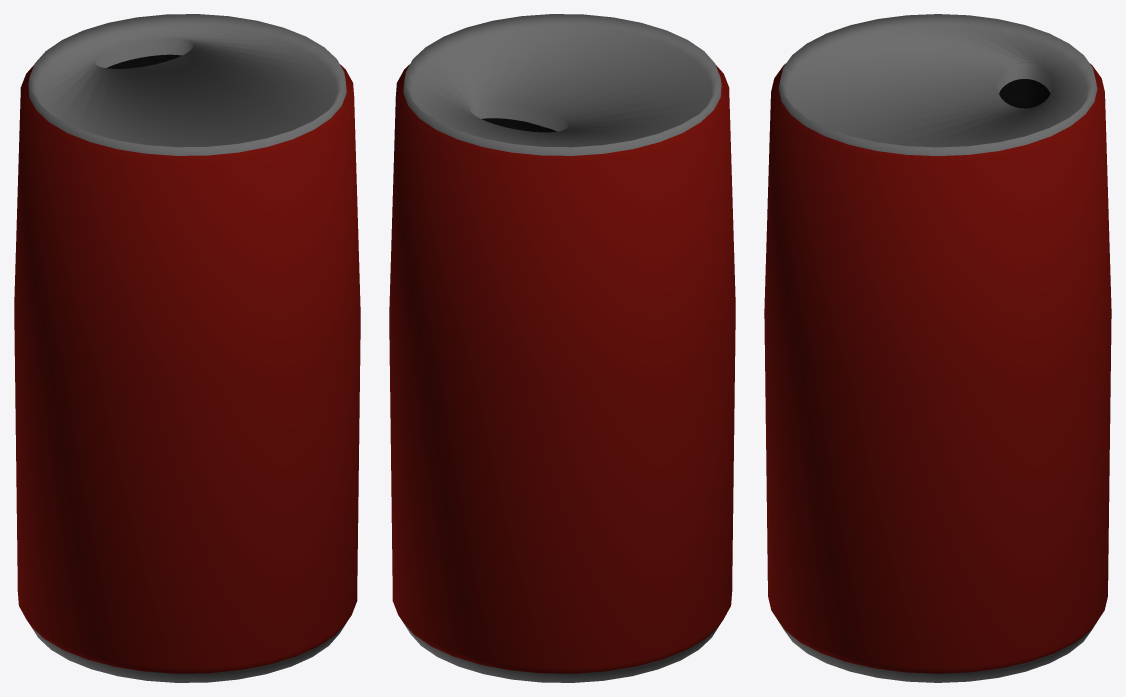
Rendered from Can.gltf.
The picture shows the model from 3 angles, left to right: view 1: azimuth 30°, elevation 25°; view 2: azimuth 150°, elevation 25°; view 3: azimuth 270°, elevation 25°; orthographic projection.
Parts seen in each view (by area): view 1: Can; view 2: Can; view 3: Can.
Boxes of the visible parts, bbox=[...] form: Can: bbox=[14, 14, 360, 682]; Can: bbox=[389, 14, 735, 682]; Can: bbox=[764, 14, 1111, 682].
Bounding box in the file's own units: 0.9419 × 1.6 × 0.9419.
Materials: 1 (1 with a texture image).
